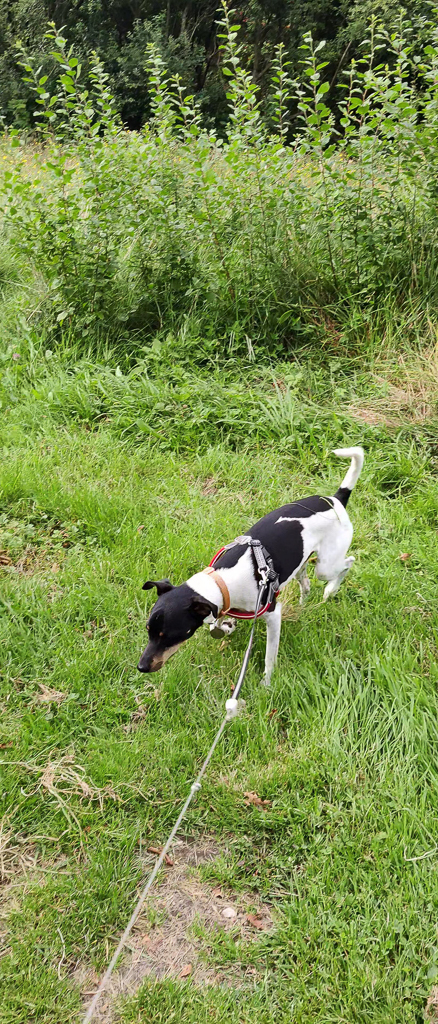Dog: (113, 435, 373, 724)
